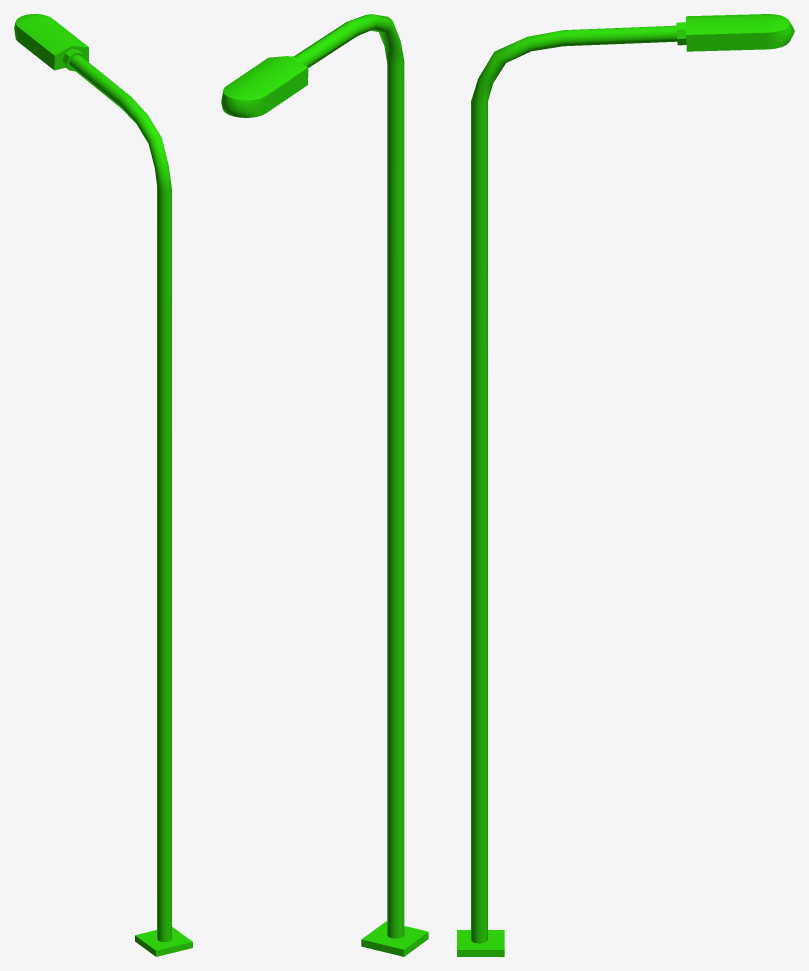
File: Street_Lights_01_Lod0.fbx
3 views of the same model, side by side, from view 1: azimuth 30°, elevation 25°; view 2: azimuth 150°, elevation 25°; view 3: azimuth 270°, elevation 25° (orthographic). The views are drawn at different scales.
Parts seen in each view (by area): view 1: Street_Lights_01_Lod0; view 2: Street_Lights_01_Lod0; view 3: Street_Lights_01_Lod0.
Boxes of the visible parts, x1,y1,x2,y2 form: Street_Lights_01_Lod0: (14, 14, 192, 956); Street_Lights_01_Lod0: (221, 14, 428, 956); Street_Lights_01_Lod0: (457, 14, 794, 956).
Bounding box in the file's own units: 35.23 × 763 × 251.
